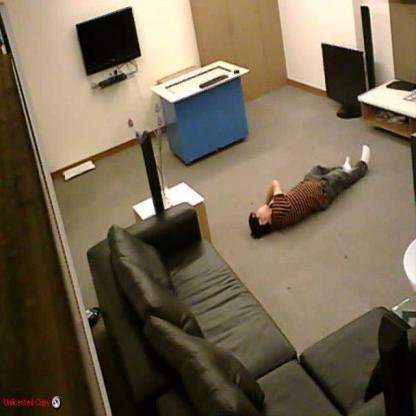Person: (248, 145, 370, 239)
